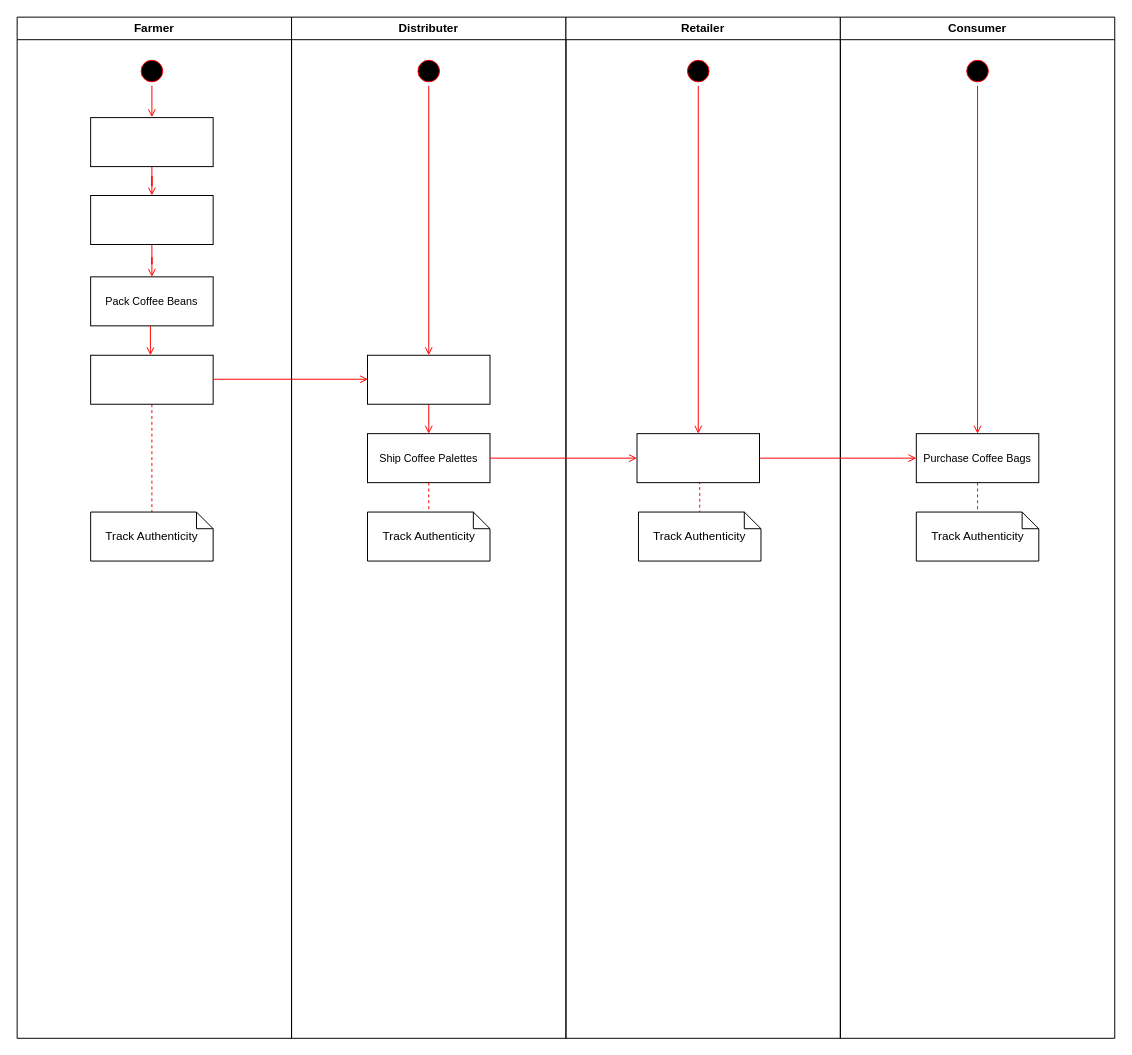
Image size: 1132x1055. Some labels were removed from this diagram. The centre of each missing label's shape, as x and y in pixels:
"Buy Coffee Palettes" belongs at point 428,379.
"Harvest Coffee Beans" belongs at point 151,142.
"Process Coffee Beans" belongs at point 151,220.
"Receive Coffee Palettes" belongs at point 698,458.
"Sell Coffee Plates" belongs at point 151,379.
